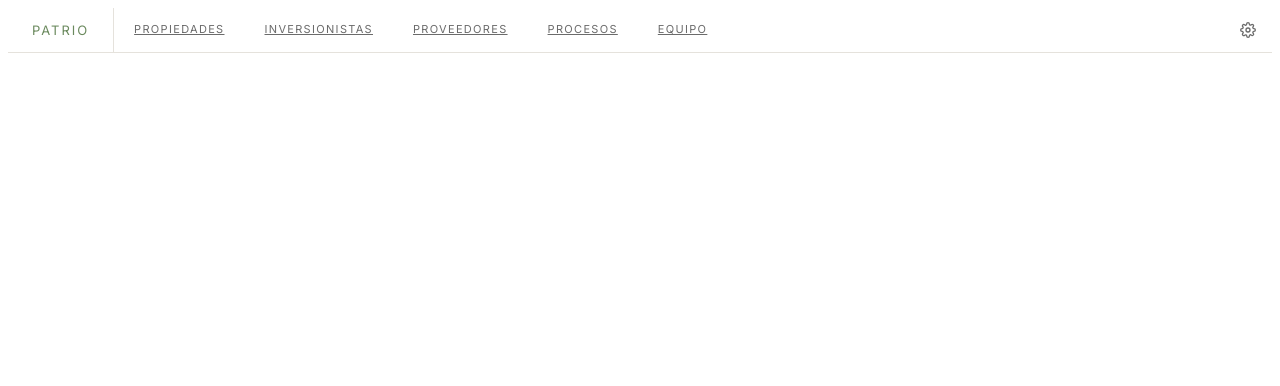
Test: TabBar settings panel › opens on gear click and is position:fixed so it escapes the bar's scroll container
Click the button titled "Configuración" at (1248, 30), box [1224,8,1272,52]
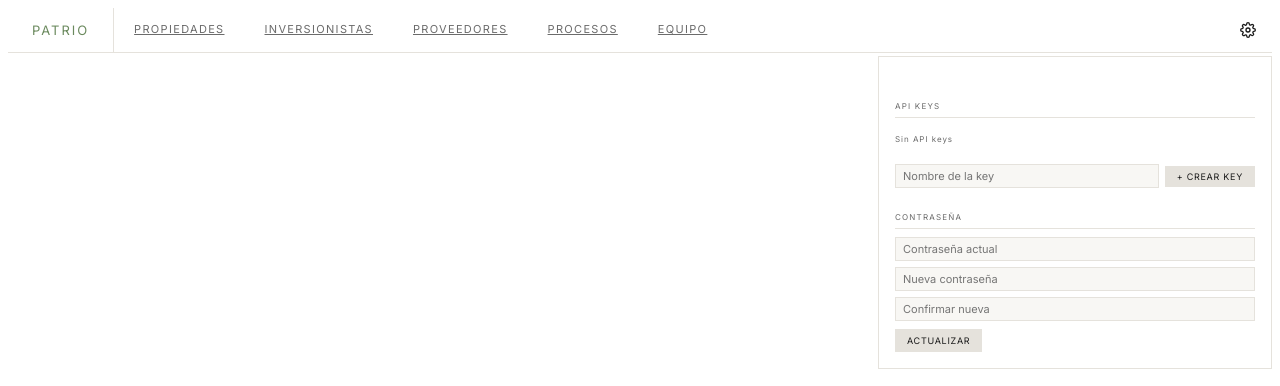
Check: the element with test id "settings-panel" is shown, box [878,56,1272,369]
